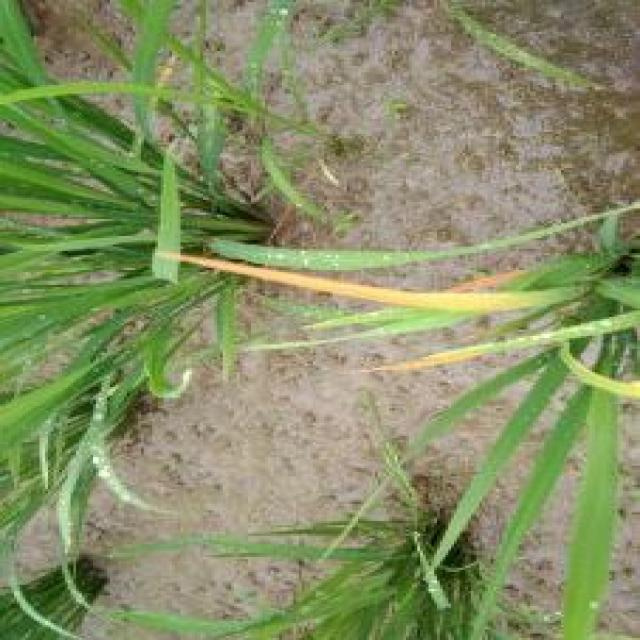Tungro: (181, 234, 571, 380)
